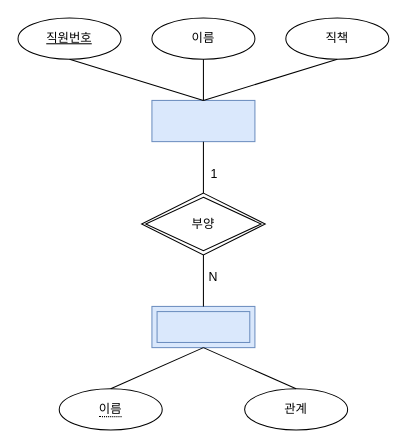
Image size: 407x448. Some labels were removed from this diagram. Here are the shapes that lost their labels. From the top down, the box of each, then its label:
(151, 99, 255, 142): 직원
(151, 305, 255, 348): 가족
